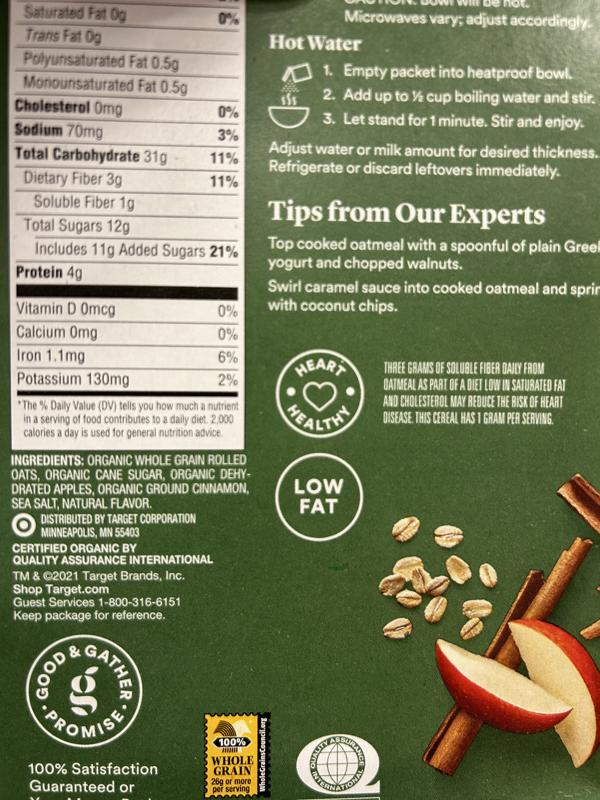ingredients: (8, 452, 254, 511)
